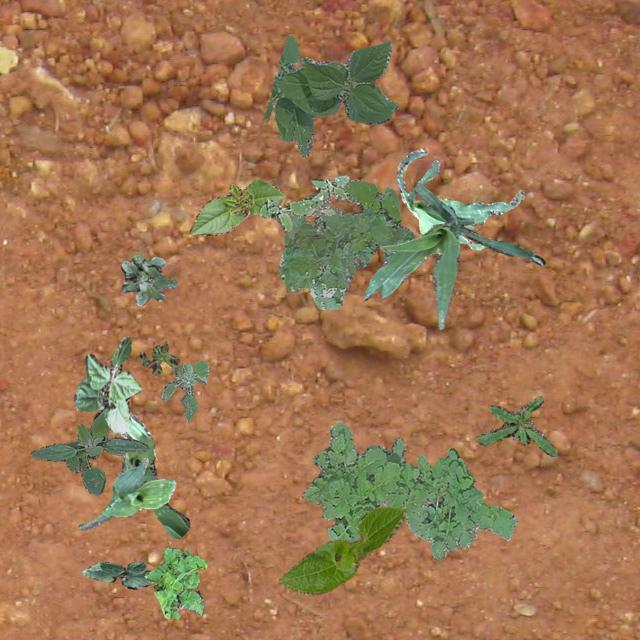crop: (362, 184, 544, 328), (263, 36, 397, 156), (396, 146, 524, 248), (278, 506, 404, 594), (120, 410, 188, 538), (78, 456, 174, 530), (72, 336, 140, 434), (188, 178, 284, 234), (80, 560, 154, 588)
weed: (300, 422, 516, 560), (276, 178, 414, 308), (30, 408, 148, 494), (258, 173, 348, 230), (474, 394, 556, 456), (144, 546, 206, 618), (120, 253, 177, 304), (160, 360, 208, 420), (138, 342, 180, 374)
